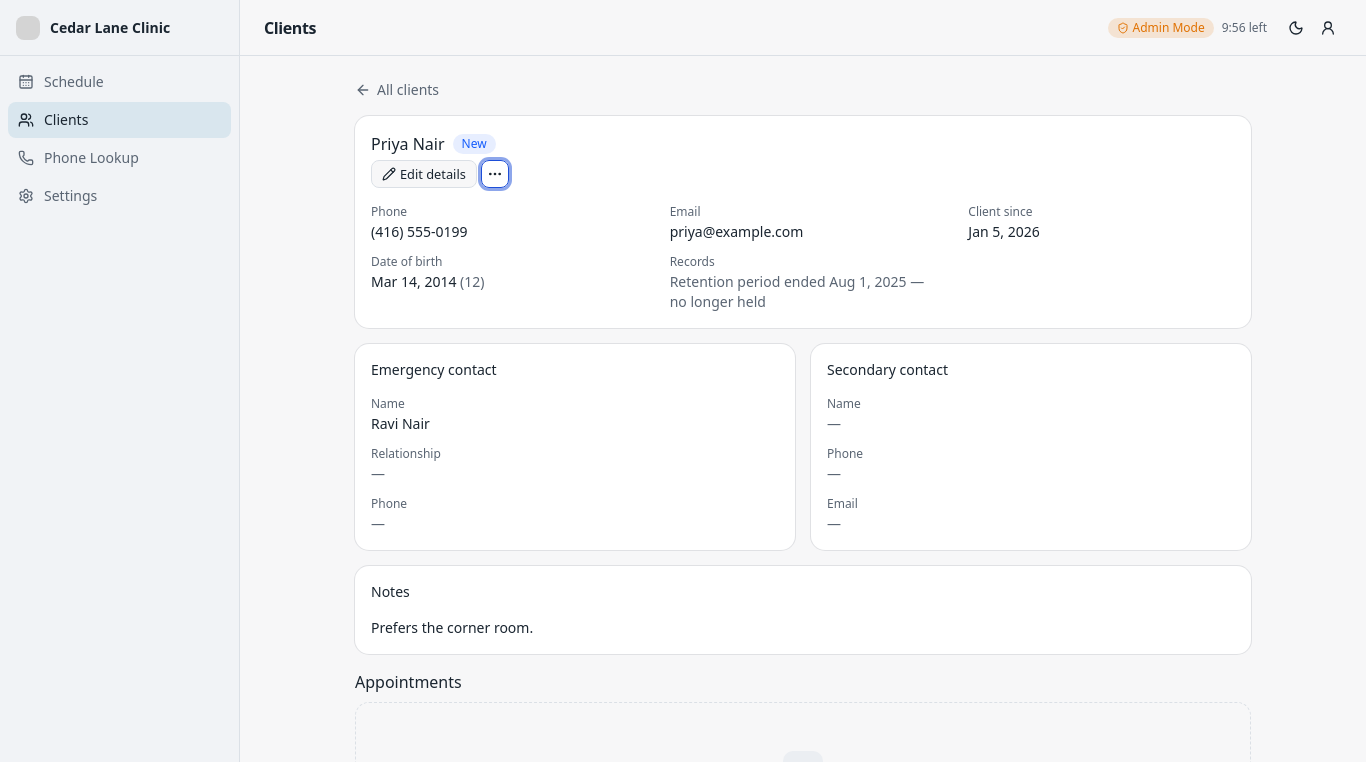
Scenario: a hold that has already ended is not promised: name and DOB go, and the dialog says why
Press Enter
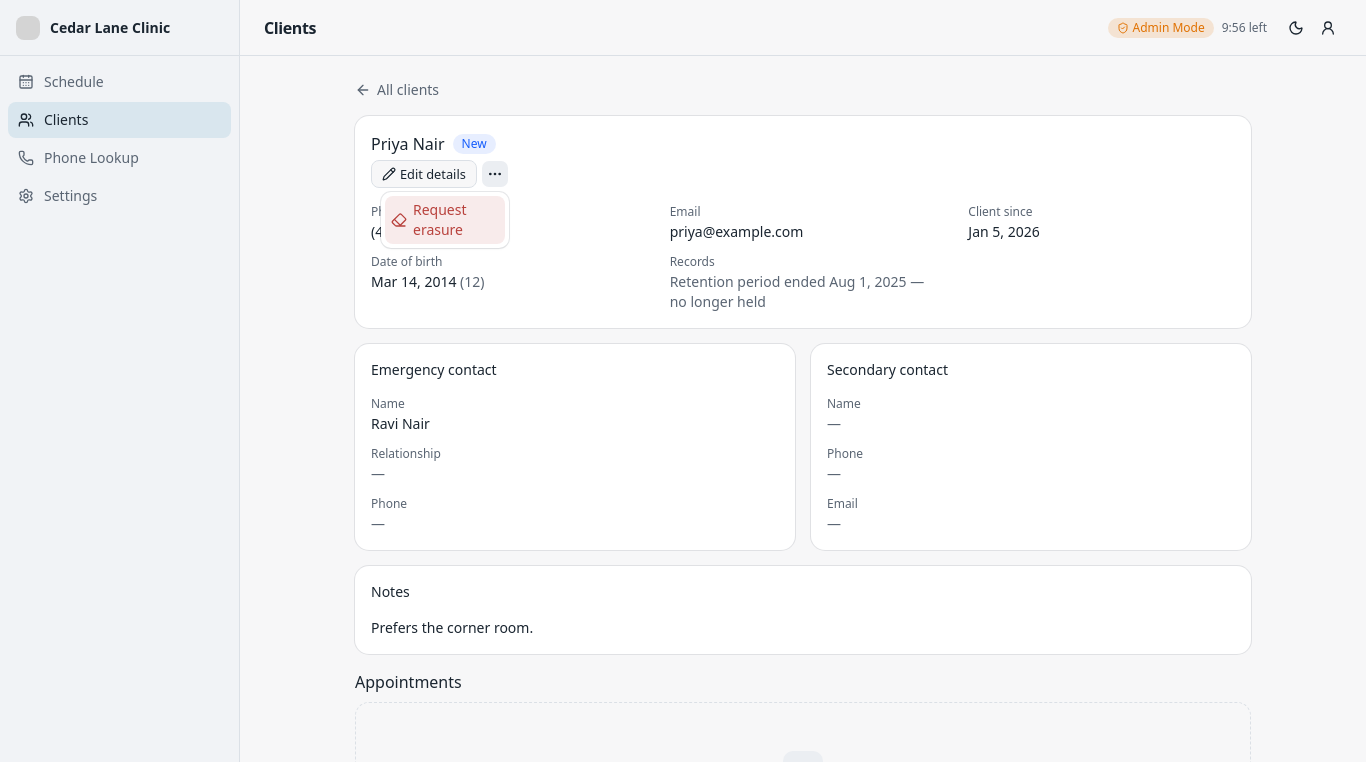
Click the menu item "Request erasure" at x=445, y=220, box [385, 196, 505, 244]
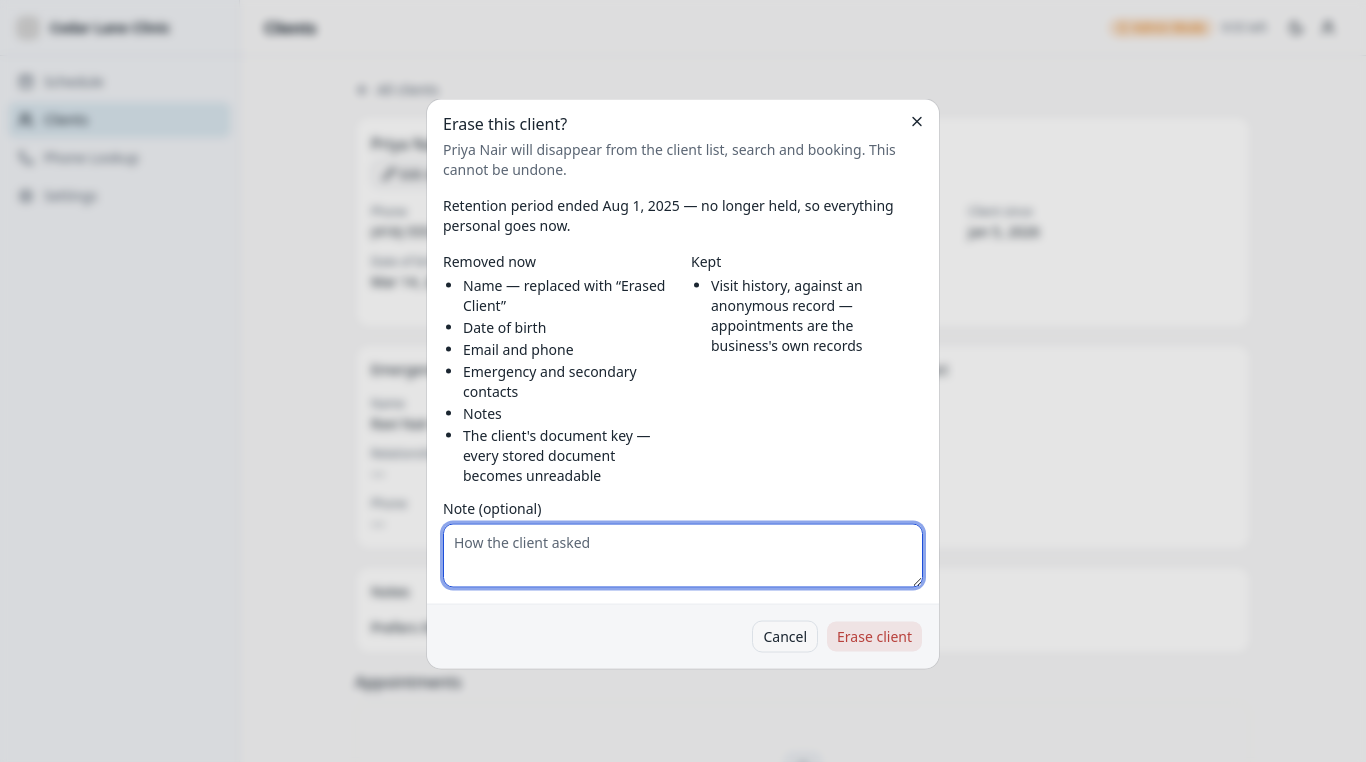
Expected: the list item "Name — replaced with “Erased Client”" is shown, [463, 276, 675, 316]
Expected: the list item "Date of birth" is shown, [463, 318, 546, 336]
